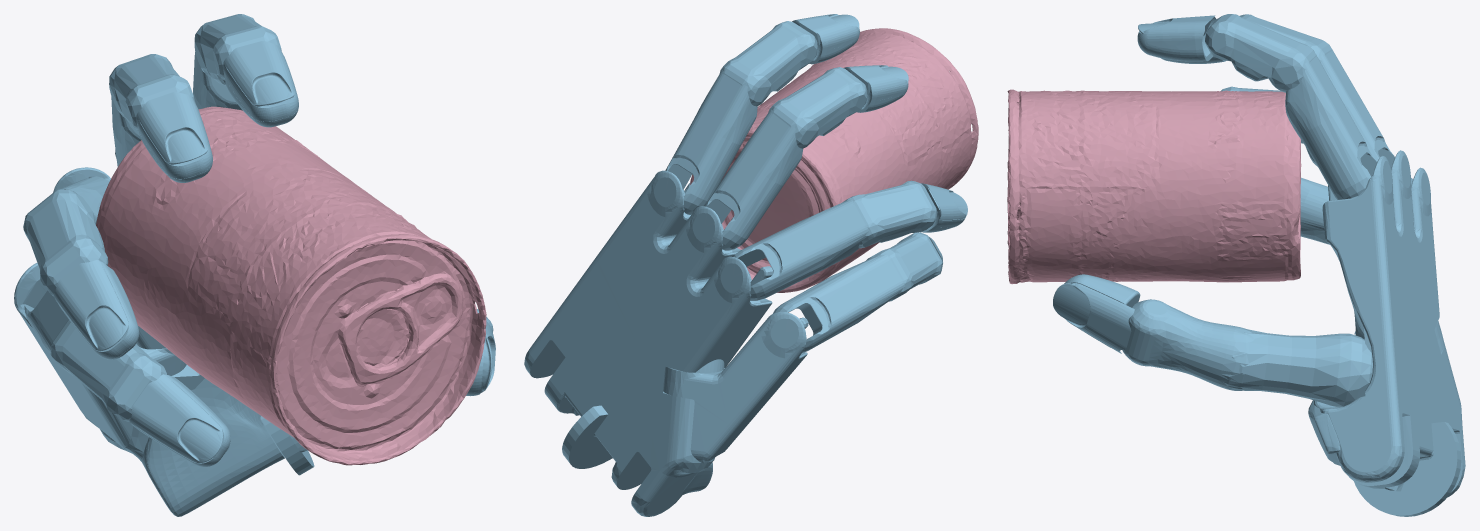
The picture shows the model from 3 angles, left to right: view 1: azimuth 30°, elevation 25°; view 2: azimuth 150°, elevation 25°; view 3: azimuth 270°, elevation 25°; orthographic projection. The views are drawn at different scales.
Parts seen in each view (by area): view 1: tomato_soup_can.stl, world; view 2: world, tomato_soup_can.stl; view 3: world, tomato_soup_can.stl.
Boxes of the visible parts, box(x1,y1,x2,y2) form: tomato_soup_can.stl: box(96, 106, 486, 465); world: box(14, 14, 495, 516); world: box(524, 14, 967, 516); tomato_soup_can.stl: box(690, 28, 978, 292); world: box(1053, 14, 1465, 516); tomato_soup_can.stl: box(1007, 89, 1301, 284).
Size of the model in its own units: 0.1449 by 0.1759 by 0.1589.
